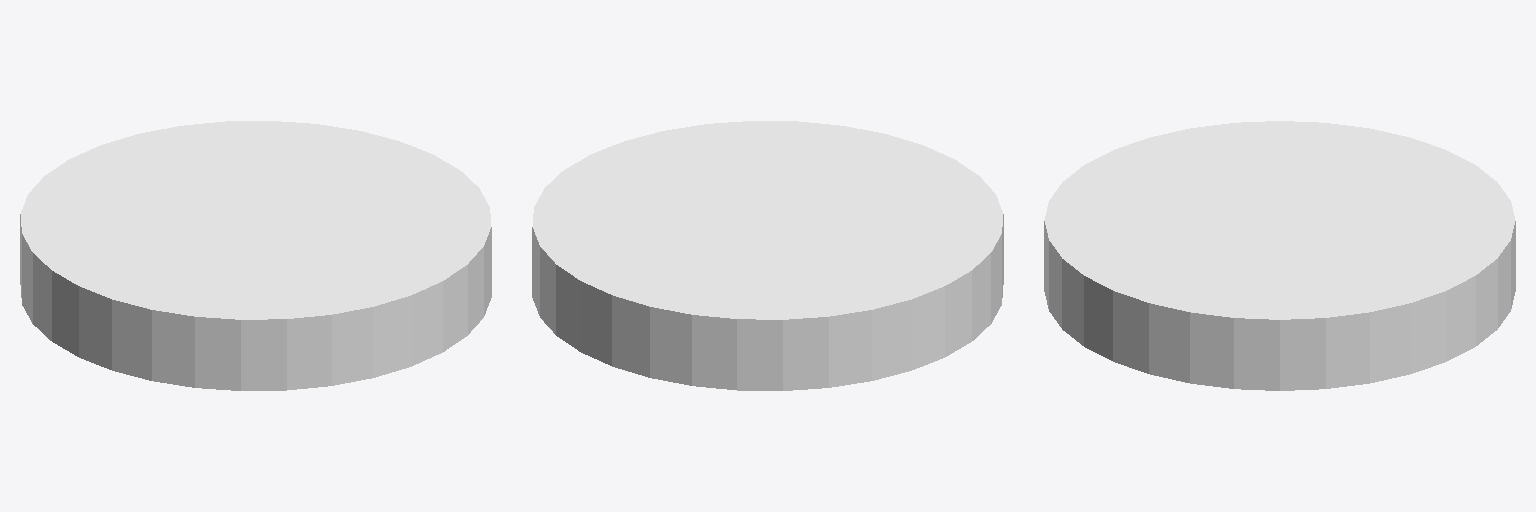
robot.urdf — pneutrunk:
<?xml version="1.0" ?>
<robot name="pneutrunk">

<material name="white">
    <color rgba="1 1 1 1"/>
</material>

<link name="base_link"/>

<link name="segment_1">
    <visual>
        <geometry>
            <cylinder length="0.1" radius="0.3"/>
            <origin rpy="0 0 0" xyz="0 0 0"/>
        </geometry>
        <material name="white"/>
    </visual>
</link>

<joint name="segment_1_joint" type="floating">
    <parent link="base_link"/>
    <child link="segment_1"/>
</joint>

<link name="segment_2">
    <visual>
        <geometry>
            <cylinder length="0.1" radius="0.3"/>
            <origin rpy="0 0 0" xyz="0 0 0"/>
        </geometry>
        <material name="white"/>
    </visual>
</link>

<joint name="segment_2_joint" type="floating">
    <parent link="base_link"/>
    <child link="segment_2"/>
</joint>


<link name="segment_3">
    <visual>
        <geometry>
            <cylinder length="0.1" radius="0.3"/>
            <origin rpy="0 0 0" xyz="0 0 0"/>
        </geometry>
        <material name="white"/>
    </visual>
</link>

<joint name="segment_3_joint" type="floating">
    <parent link="base_link"/>
    <child link="segment_3"/>
</joint>

</robot>

--- What the picture shows (computed from the rendered views, not written in the file) ---
Views: 3 orthographic renders of the robot side by side, from view 1: azimuth 30°, elevation 25°; view 2: azimuth 150°, elevation 25°; view 3: azimuth 270°, elevation 25°.
Model pneutrunk with 4 links and 3 joints (3 floating), rooted at base_link, posed every joint at zero.
Links seen in each view (by area): view 1: segment_1; view 2: segment_1; view 3: segment_1.
Boxes of the visible links, left/top/right/bottom form: segment_1: left=20, top=121, right=491, bottom=390; segment_1: left=532, top=121, right=1003, bottom=390; segment_1: left=1044, top=121, right=1515, bottom=390.
Size in the robot's own frame: 0.6 by 0.6 by 0.1 metres.
Geometry: primitives only (box / cylinder / sphere), no mesh files.